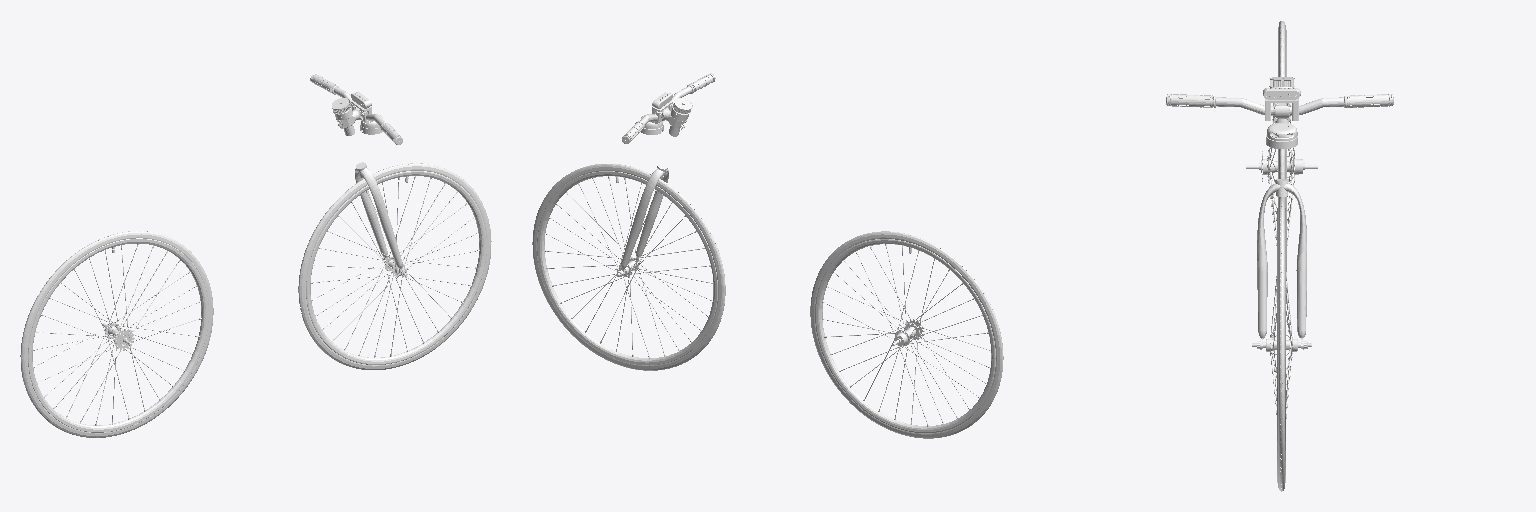
URDF robot description (bicycle_urdf):
<?xml version="1.0" encoding="utf-8" ?>
<!-- This URDF was automatically created by SolidWorks to URDF Exporter! Originally created by [author] ([email redacted]) 
     Commit Version: 1.6.0-4-g7f85cfe  Build Version: 1.6.7995.38578
     For more information, please see http://wiki.ros.org/sw_urdf_exporter -->
<robot name="bicycle_urdf">
    <link name="virtual" />
    <joint name="virtual_joint" type="fixed">
        <parent link="virtual" />
        <child link="base_link" />
    </joint>
    <link name="effector" />
    <joint name="virtual_effector" type="fixed">
        <parent link="j6" />
        <child link="effector" />
    </joint>
    <link name="base_link">
        <inertial>
            <origin xyz="0 -9.7454E-22 5.5511E-17" rpy="0 0 0" />
            <mass value="0" />
            <inertia ixx="0" ixy="0" ixz="0" iyy="0" iyz="0" izz="0" />
        </inertial>
        <visual>
            <origin xyz="0 0 0" rpy="0 0 0" />
            <geometry>
                <mesh filename="package://bicycle_urdf/meshes/base_link.STL" />
            </geometry>
            <material name="">
                <color rgba="1 1 1 1" />
            </material>
        </visual>
        <collision>
            <origin xyz="0 0 0" rpy="0 0 0" />
            <geometry>
                <mesh filename="package://bicycle_urdf/meshes/base_link.STL" />
            </geometry>
        </collision>
    </link>
    <link name="j1">
        <inertial>
            <origin xyz="0.015473 -0.00077799 0.5819" rpy="0 0 0" />
            <mass value="3.6404" />
            <inertia ixx="0.053969" ixy="3.96E-05" ixz="-0.039018" iyy="0.14785" iyz="-2.2259E-06" izz="0.097779" />
        </inertial>
        <visual>
            <origin xyz="0 0 0" rpy="0 0 0" />
            <geometry>
                <mesh filename="package://bicycle_urdf/meshes/j1.STL" />
            </geometry>
            <material name="">
                <color rgba="1 1 1 1" />
            </material>
        </visual>
        <collision>
            <origin xyz="0 0 0" rpy="0 0 0" />
            <geometry>
                <mesh filename="package://bicycle_urdf/meshes/j1.STL" />
            </geometry>
        </collision>
    </link>
    <joint name="j1" type="revolute">
        <origin xyz="0 0 0" rpy="0 0 0" />
        <parent link="base_link" />
        <child link="j1" />
        <axis xyz="1 0 0" />
        <limit lower="-1.57" upper="1.57" effort="0" velocity="0" />
    </joint>
    <link name="j2">
        <inertial>
            <origin xyz="0.012509 -0.00053714 -0.19226" rpy="0 0 0" />
            <mass value="0.68174" />
            <inertia ixx="0.0042946" ixy="-3.0303E-08" ixz="4.5338E-06" iyy="0.0034463" iyz="9.0055E-09" izz="0.00099221" />
        </inertial>
        <visual>
            <origin xyz="0 0 0" rpy="0 0 0" />
            <geometry>
                <mesh filename="package://bicycle_urdf/meshes/j2.STL" />
            </geometry>
            <material name="">
                <color rgba="1 1 1 1" />
            </material>
        </visual>
        <collision>
            <origin xyz="0 0 0" rpy="0 0 0" />
            <geometry>
                <mesh filename="package://bicycle_urdf/meshes/j2.STL" />
            </geometry>
        </collision>
    </link>
    <joint name="j2" type="revolute">
        <origin xyz="0.38509 0.000175 0.89724" rpy="0 -0.312 0" />
        <parent link="j1" />
        <child link="j2" />
        <axis xyz="0 0 -1" />
        <limit lower="-1.57" upper="1.57" effort="0" velocity="0" />
    </joint>
    <link name="j6">
        <inertial>
            <origin xyz="-0.00054858 0.00024903 -6.0281E-05" rpy="0 0 0" />
            <mass value="0.044753" />
            <inertia ixx="2.7275E-05" ixy="2.4489E-07" ixz="-1.0126E-09" iyy="3.9444E-06" iyz="-2.93E-09" izz="2.736E-05" />
        </inertial>
        <visual>
            <origin xyz="0 0 0" rpy="0 0 0" />
            <geometry>
                <mesh filename="package://bicycle_urdf/meshes/j6.STL" />
            </geometry>
            <material name="">
                <color rgba="1 1 1 1" />
            </material>
        </visual>
        <collision>
            <origin xyz="0 0 0" rpy="0 0 0" />
            <geometry>
                <mesh filename="package://bicycle_urdf/meshes/j6.STL" />
            </geometry>
        </collision>
    </link>
    <joint name="j6" type="fixed">
        <origin xyz="0.068861 -0.00088133 0.018549" rpy="0 0.17453 0" />
        <parent link="j2" />
        <child link="j6" />
        <axis xyz="0 0 0" />
    </joint>
    <link name="j3">
        <inertial>
            <origin xyz="7.5754E-06 -4.6249E-05 -0.0003164" rpy="0 0 0" />
            <mass value="1.4336" />
            <inertia ixx="0.07015" ixy="-2.4297E-08" ixz="-4.9239E-05" iyy="0.14017" iyz="2.6741E-07" izz="0.070164" />
        </inertial>
        <visual>
            <origin xyz="0 0 0" rpy="0 0 0" />
            <geometry>
                <mesh filename="package://bicycle_urdf/meshes/j3.STL" />
            </geometry>
            <material name="">
                <color rgba="1 1 1 1" />
            </material>
        </visual>
        <collision>
            <origin xyz="0 0 0" rpy="0 0 0" />
            <geometry>
                <mesh filename="package://bicycle_urdf/meshes/j3.STL" />
            </geometry>
        </collision>
    </link>
    <joint name="j3" type="revolute">
        <origin xyz="0.00011884 -0.001 -0.5832" rpy="0 0.312 0" />
        <parent link="j2" />
        <child link="j3" />
        <axis xyz="0 1 0" />
        <limit lower="-3.14" upper="3.14" effort="0" velocity="0" />
    </joint>
    <link name="j4">
        <inertial>
            <origin xyz="-3.8345E-05 -0.00021809 -0.00030458" rpy="0 0 0" />
            <mass value="1.4778" />
            <inertia ixx="0.070308" ixy="-5.1529E-08" ixz="4.9621E-05" iyy="0.14042" iyz="-2.6307E-07" izz="0.070301" />
        </inertial>
        <visual>
            <origin xyz="0 0 0" rpy="0 0 0" />
            <geometry>
                <mesh filename="package://bicycle_urdf/meshes/j4.STL" />
            </geometry>
            <material name="">
                <color rgba="1 1 1 1" />
            </material>
        </visual>
        <collision>
            <origin xyz="0 0 0" rpy="0 0 0" />
            <geometry>
                <mesh filename="package://bicycle_urdf/meshes/j4.STL" />
            </geometry>
        </collision>
    </link>
    <joint name="j4" type="revolute">
        <origin xyz="-0.42413 0 0.3425" rpy="0 0 0" />
        <parent link="j1" />
        <child link="j4" />
        <axis xyz="0 -1 0" />
        <limit lower="-3.14" upper="3.14" effort="0" velocity="0" />
    </joint>
    <link name="j5">
        <inertial>
            <origin xyz="0.0014631 0.00022537 8.6819E-05" rpy="0 0 0" />
            <mass value="0.037231" />
            <inertia ixx="1.6788E-05" ixy="-4.3096E-08" ixz="-4.7953E-07" iyy="1.4823E-05" iyz="5.8388E-09" izz="3.0114E-05" />
        </inertial>
        <visual>
            <origin xyz="0 0 0" rpy="0 0 0" />
            <geometry>
                <mesh filename="package://bicycle_urdf/meshes/j5.STL" />
            </geometry>
            <material name="">
                <color rgba="1 1 1 1" />
            </material>
        </visual>
        <collision>
            <origin xyz="0 0 0" rpy="0 0 0" />
            <geometry>
                <mesh filename="package://bicycle_urdf/meshes/j5.STL" />
            </geometry>
        </collision>
    </link>
    <joint name="j5" type="fixed">
        <origin xyz="0.48435 0.00017515 0.84618" rpy="0 0 0" />
        <parent link="j1" />
        <child link="j5" />
        <axis xyz="0 0 0" />
    </joint>
    <transmission name="trans_j1">
        <type>transmission_interface/SimpleTransmission</type>
        <joint name="j1">
            <hardwareInterface>hardware_interface/EffortJointInterface</hardwareInterface>
        </joint>
        <actuator name="j1_motor">
            <hardwareInterface>hardware_interface/EffortJointInterface</hardwareInterface>
            <mechanicalReduction>1</mechanicalReduction>
        </actuator>
    </transmission>
    <transmission name="trans_j2">
        <type>transmission_interface/SimpleTransmission</type>
        <joint name="j2">
            <hardwareInterface>hardware_interface/EffortJointInterface</hardwareInterface>
        </joint>
        <actuator name="j2_motor">
            <hardwareInterface>hardware_interface/EffortJointInterface</hardwareInterface>
            <mechanicalReduction>1</mechanicalReduction>
        </actuator>
    </transmission>
    <transmission name="trans_j3">
        <type>transmission_interface/SimpleTransmission</type>
        <joint name="j3">
            <hardwareInterface>hardware_interface/EffortJointInterface</hardwareInterface>
        </joint>
        <actuator name="j3_motor">
            <hardwareInterface>hardware_interface/EffortJointInterface</hardwareInterface>
            <mechanicalReduction>1</mechanicalReduction>
        </actuator>
    </transmission>
    <transmission name="trans_j4">
        <type>transmission_interface/SimpleTransmission</type>
        <joint name="j4">
            <hardwareInterface>hardware_interface/EffortJointInterface</hardwareInterface>
        </joint>
        <actuator name="j4_motor">
            <hardwareInterface>hardware_interface/EffortJointInterface</hardwareInterface>
            <mechanicalReduction>1</mechanicalReduction>
        </actuator>
    </transmission>
    <gazebo>
        <plugin name="gazebo_ros_control">
            <robotNamespace>/</robotNamespace>
        </plugin>
    </gazebo>
</robot>

--- Facts derived from the render (not from the file) ---
Views: 3 orthographic renders of the robot side by side, from view 1: azimuth 30°, elevation 25°; view 2: azimuth 150°, elevation 25°; view 3: azimuth 270°, elevation 25°.
Model bicycle_urdf with 9 links and 8 joints (4 revolute, 4 fixed), rooted at virtual, posed all joints at 0.
Visible links, largest first — view 1: j4, j3, j2; view 2: j4, j3, j2; view 3: j2, j3, j4, j5.
Boxes of the visible links, <box> form: j4: <box>20,231,213,437</box>; j3: <box>298,163,491,369</box>; j2: <box>310,74,408,275</box>; j4: <box>810,231,1003,438</box>; j3: <box>532,164,725,370</box>; j2: <box>615,73,715,276</box>; j2: <box>1166,77,1393,349</box>; j3: <box>1252,199,1311,491</box>; j4: <box>1246,21,1317,303</box>; j5: <box>1266,123,1297,148</box>.
Size in the robot's own frame: 1.67 by 0.5325 by 0.9509 metres.
6 mesh visuals loaded from 7 distinct referenced files (6 binary STL); not drawn: 1 (reference not matched to a file when rendering).